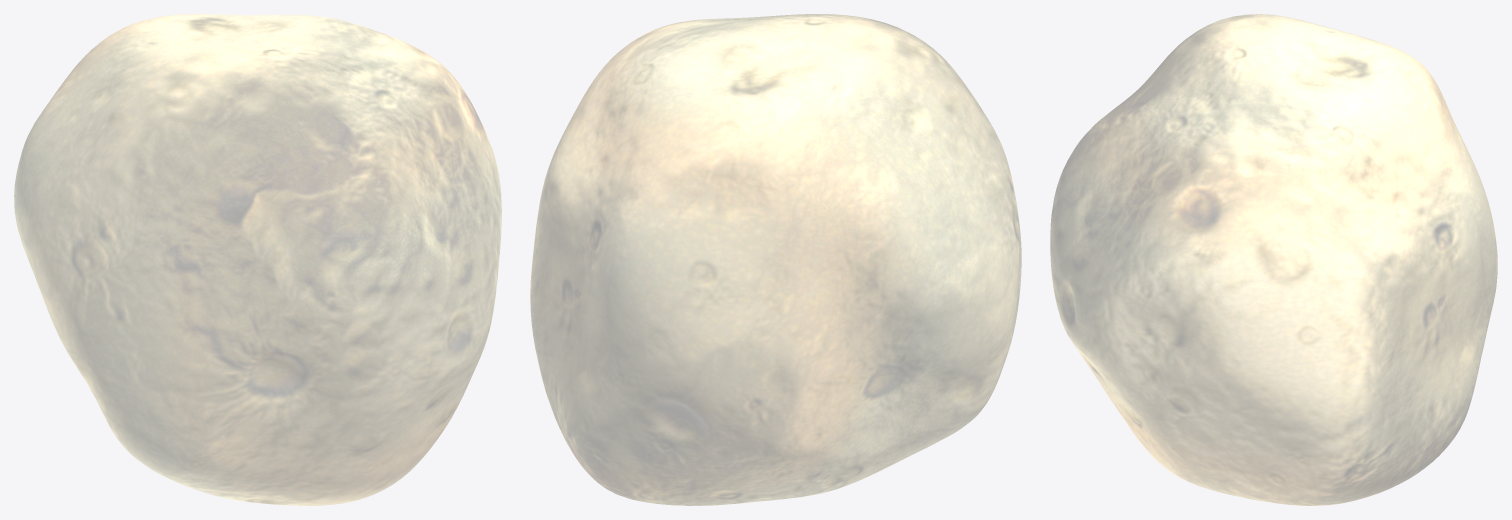
The model's file is asteroid1.glb.
3 views of the same model, side by side, from view 1: azimuth 30°, elevation 25°; view 2: azimuth 150°, elevation 25°; view 3: azimuth 270°, elevation 25° (orthographic). The views are drawn at different scales.
Visible parts, largest first — view 1: 10464_Asteroid_v1; view 2: 10464_Asteroid_v1; view 3: 10464_Asteroid_v1.
Part boxes in pixels (x1,y1,x2,y2): 10464_Asteroid_v1: (14,14,501,505); 10464_Asteroid_v1: (530,14,1021,505); 10464_Asteroid_v1: (1050,14,1497,505).
Bounding box in the file's own units: 1365 × 1383 × 1377.
1 material, 1 textured.
